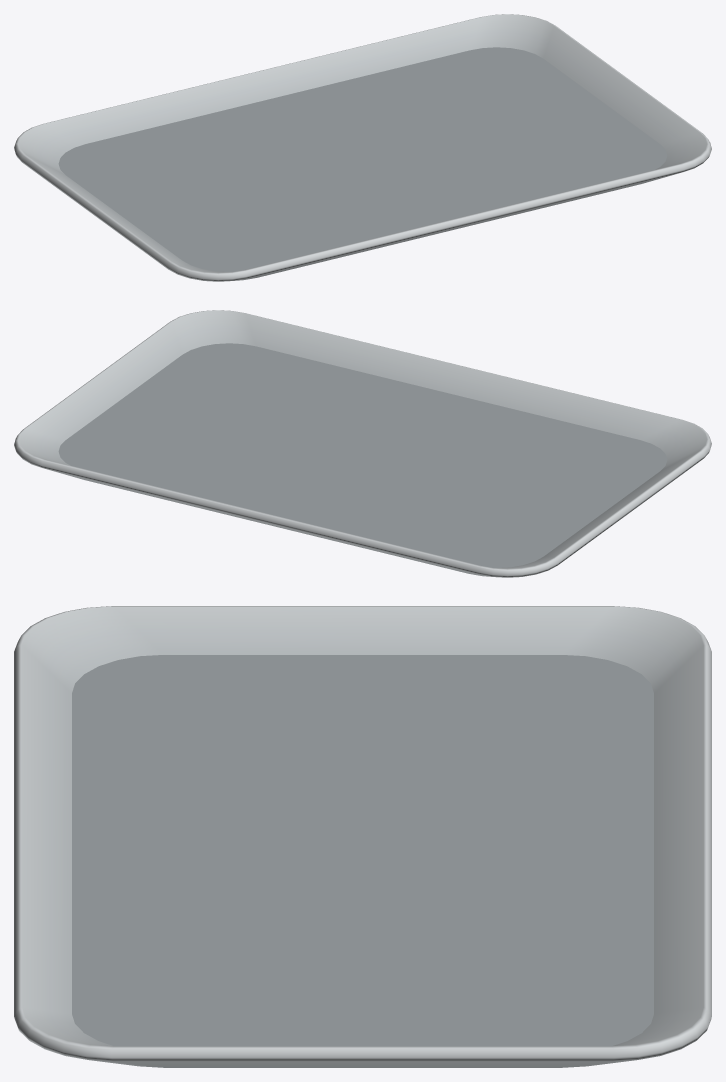
File: tray_001.fbx
The picture shows the model from 3 angles, top to bottom: view 1: azimuth 30°, elevation 25°; view 2: azimuth 150°, elevation 25°; view 3: azimuth 270°, elevation 25°; orthographic projection. The views are drawn at different scales.
Visible parts, largest first — view 1: tray_001; view 2: tray_001; view 3: tray_001.
Part boxes in pixels (bbox=[...]): tray_001: bbox=[14, 14, 711, 281]; tray_001: bbox=[14, 310, 711, 577]; tray_001: bbox=[14, 606, 711, 1067].
Bounding box in the file's own units: 43.97 × 29.04 × 1.88.
